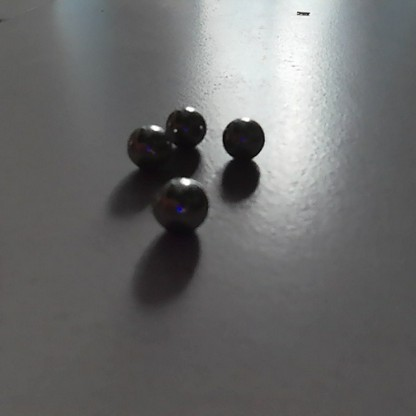ironball: (148, 176, 208, 236), (122, 120, 171, 168), (219, 115, 267, 163), (162, 104, 209, 151)
